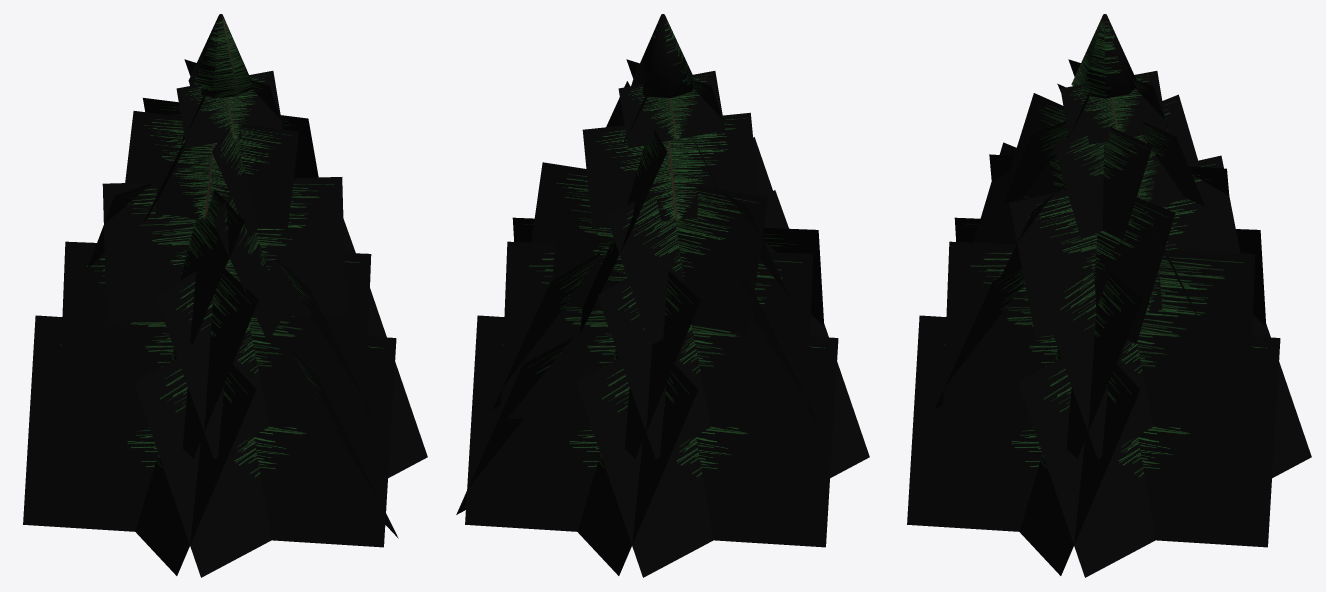
File: WK_VEG_PineTree.glb
3 views of the same model, side by side, from view 1: azimuth 30°, elevation 25°; view 2: azimuth 150°, elevation 25°; view 3: azimuth 270°, elevation 25° (orthographic).
Visible parts, largest first — view 1: WK_VEG_PineTree_P05, WK_VEG_PineTree_P10, WK_VEG_PineTree_P15, WK_VEG_PineTree_P06, WK_VEG_PineTree_P19, WK_VEG_PineTree_P11, WK_VEG_PineTree_P04, WK_VEG_PineTree_P09, WK_VEG_PineTree_P23, WK_VEG_PineTree_P14, WK_VEG_PineTree_P16, WK_VEG_PineTree_P26 (+6 smaller); view 2: WK_VEG_PineTree_P03, WK_VEG_PineTree_P08, WK_VEG_PineTree_P18, WK_VEG_PineTree_P04, WK_VEG_PineTree_P22, WK_VEG_PineTree_P14, WK_VEG_PineTree_P09, WK_VEG_PineTree_P02, WK_VEG_PineTree_P25, WK_VEG_PineTree_P13, WK_VEG_PineTree_P26, WK_VEG_PineTree_P11 (+7 smaller); view 3: WK_VEG_PineTree_P07, WK_VEG_PineTree_P12, WK_VEG_PineTree_P02, WK_VEG_PineTree_P17, WK_VEG_PineTree_P13, WK_VEG_PineTree_P16, WK_VEG_PineTree_P06, WK_VEG_PineTree_P21, WK_VEG_PineTree_P20, WK_VEG_PineTree_P11, WK_VEG_PineTree_P24, WK_VEG_PineTree_P26 (+7 smaller).
Boxes of the visible parts, x1,y1,x2,y2 form: WK_VEG_PineTree_P05: [23, 315, 396, 547]; WK_VEG_PineTree_P10: [58, 241, 371, 430]; WK_VEG_PineTree_P15: [102, 177, 345, 321]; WK_VEG_PineTree_P06: [134, 288, 427, 577]; WK_VEG_PineTree_P19: [125, 111, 298, 229]; WK_VEG_PineTree_P11: [155, 218, 385, 459]; WK_VEG_PineTree_P04: [135, 364, 256, 575]; WK_VEG_PineTree_P09: [170, 269, 258, 458]; WK_VEG_PineTree_P23: [176, 71, 282, 148]; WK_VEG_PineTree_P14: [180, 189, 244, 344]; WK_VEG_PineTree_P16: [213, 194, 282, 341]; WK_VEG_PineTree_P26: [188, 14, 253, 97]; WK_VEG_PineTree_P03: [465, 315, 838, 547]; WK_VEG_PineTree_P08: [500, 241, 813, 430]; WK_VEG_PineTree_P18: [531, 162, 767, 333]; WK_VEG_PineTree_P04: [576, 323, 869, 577]; WK_VEG_PineTree_P22: [582, 112, 758, 228]; WK_VEG_PineTree_P14: [606, 137, 785, 344]; WK_VEG_PineTree_P09: [597, 190, 827, 459]; WK_VEG_PineTree_P02: [577, 364, 698, 575]; WK_VEG_PineTree_P25: [618, 71, 724, 148]; WK_VEG_PineTree_P13: [612, 270, 700, 458]; WK_VEG_PineTree_P26: [631, 14, 693, 97]; WK_VEG_PineTree_P11: [512, 217, 824, 326]; WK_VEG_PineTree_P07: [907, 315, 1280, 547]; WK_VEG_PineTree_P12: [942, 241, 1255, 430]; WK_VEG_PineTree_P02: [1018, 323, 1311, 577]; WK_VEG_PineTree_P17: [1009, 155, 1240, 337]; WK_VEG_PineTree_P13: [1039, 265, 1269, 459]; WK_VEG_PineTree_P16: [973, 142, 1175, 343]; WK_VEG_PineTree_P06: [1019, 364, 1140, 575]; WK_VEG_PineTree_P21: [1053, 94, 1197, 239]; WK_VEG_PineTree_P20: [1004, 93, 1152, 239]; WK_VEG_PineTree_P11: [1054, 270, 1142, 458]; WK_VEG_PineTree_P24: [1060, 71, 1166, 144]; WK_VEG_PineTree_P26: [1071, 14, 1136, 98].
Bounding box in the file's own units: 4.52 × 5.7 × 4.31.
Materials: 2 (1 with a texture image).
